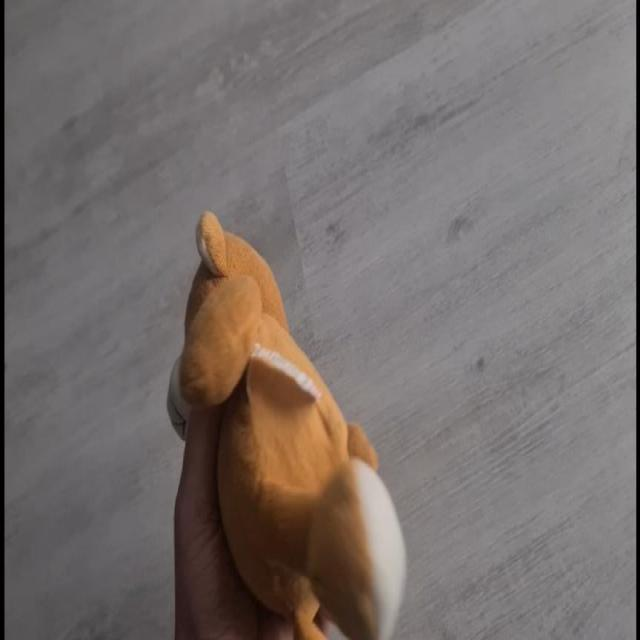soft-toy: (180, 215, 405, 640)
